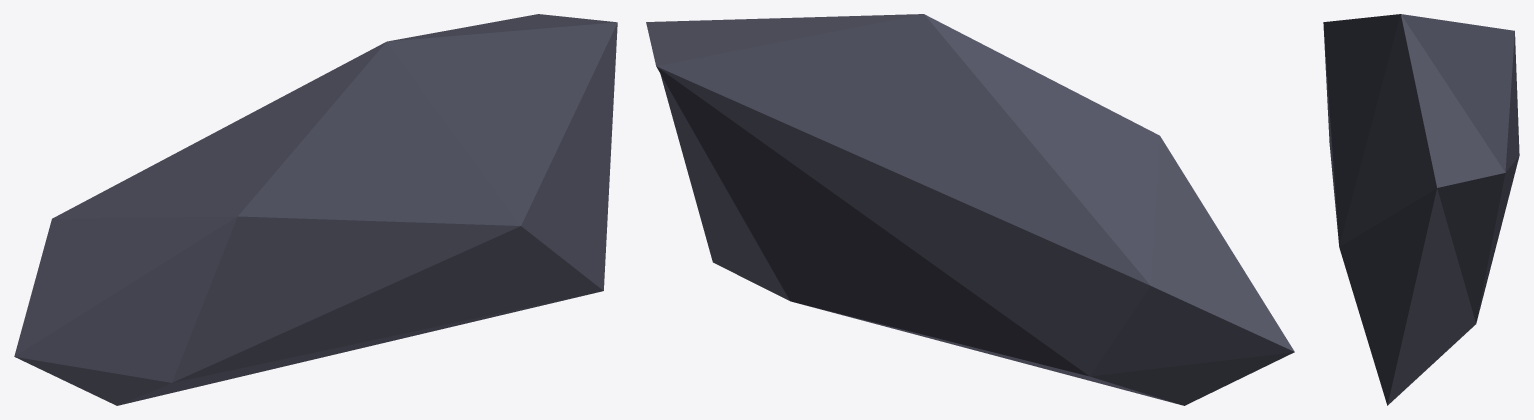
Rendered from rock_01.fbx.
3 views of the same model, side by side, from view 1: azimuth 30°, elevation 25°; view 2: azimuth 150°, elevation 25°; view 3: azimuth 270°, elevation 25° (orthographic). The views are drawn at different scales.
Parts seen in each view (by area): view 1: Icosphere; view 2: Icosphere; view 3: Icosphere.
Boxes of the visible parts, x1,y1,x2,y2 form: Icosphere: [14, 14, 617, 405]; Icosphere: [646, 14, 1294, 405]; Icosphere: [1323, 14, 1519, 405].
Bounding box in the file's own units: 690 × 330 × 194.
